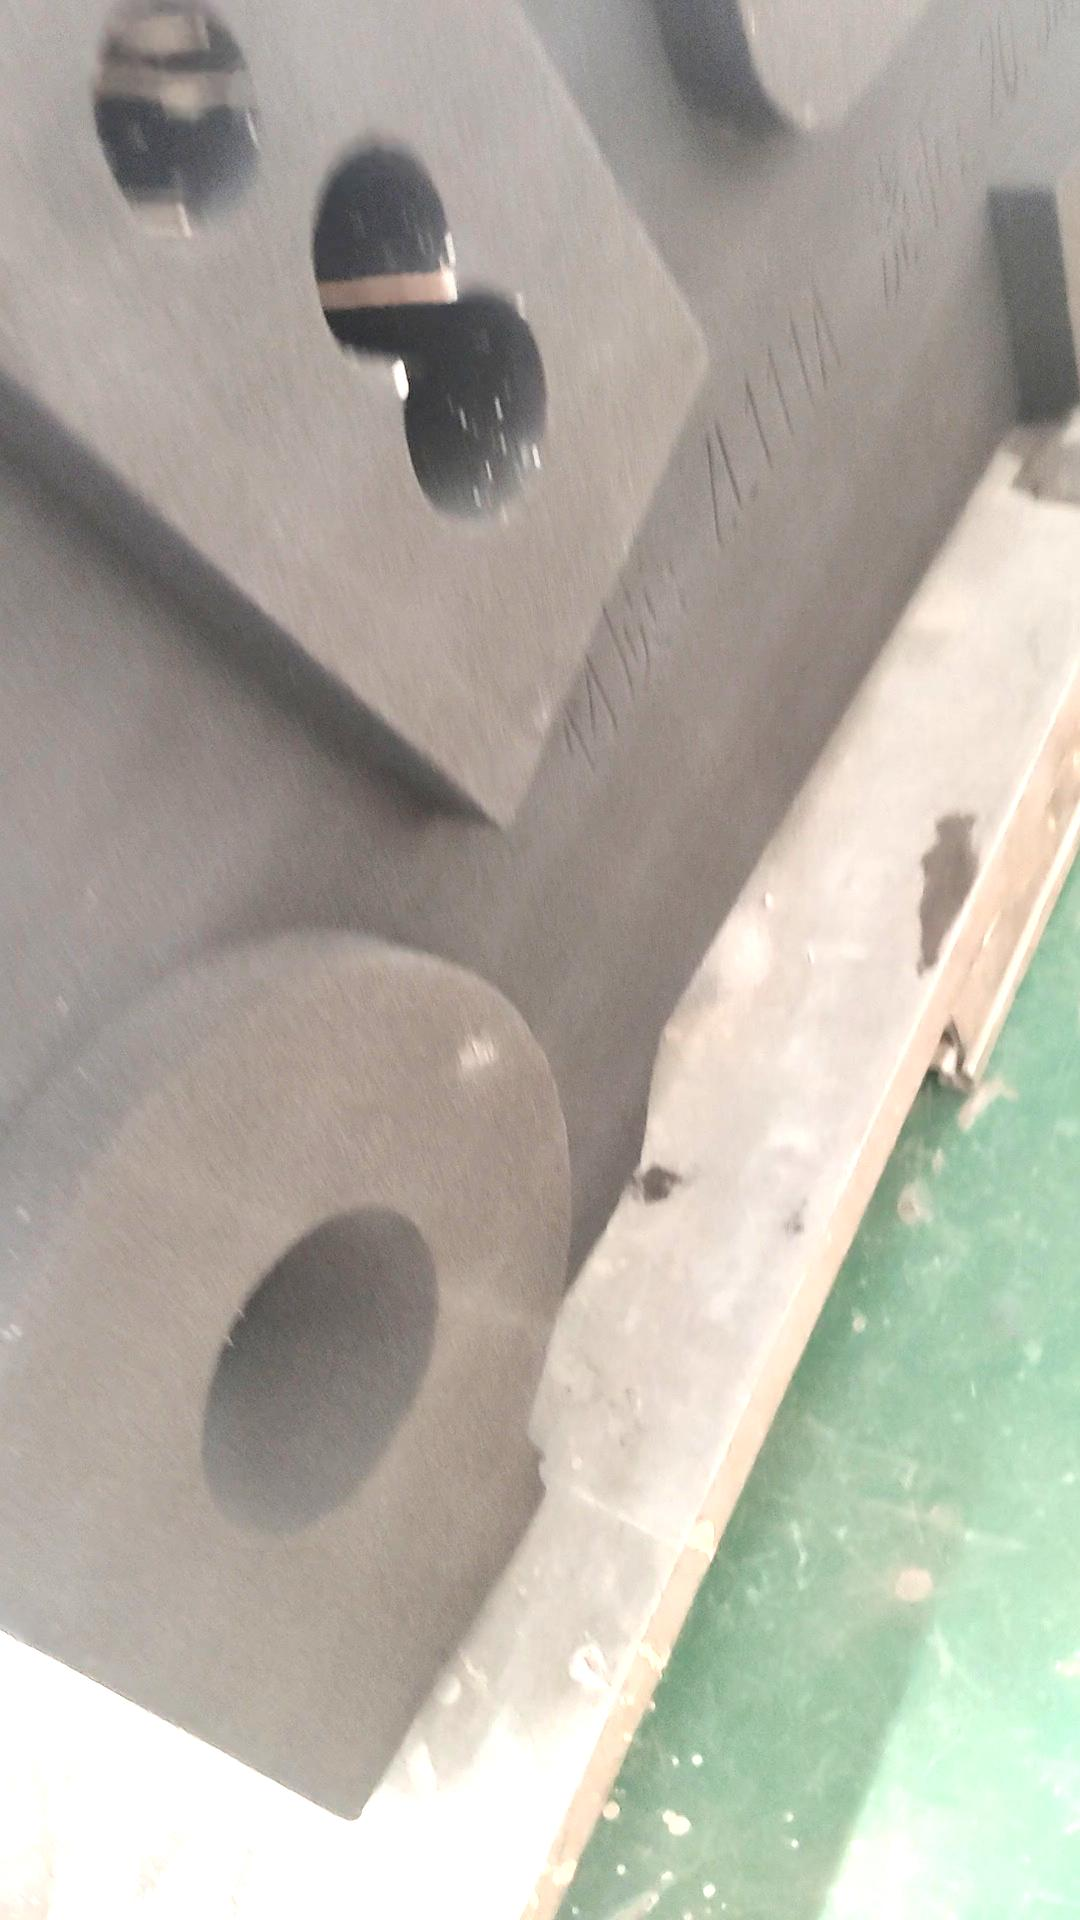pouring hole: (200, 1208, 442, 1535)
